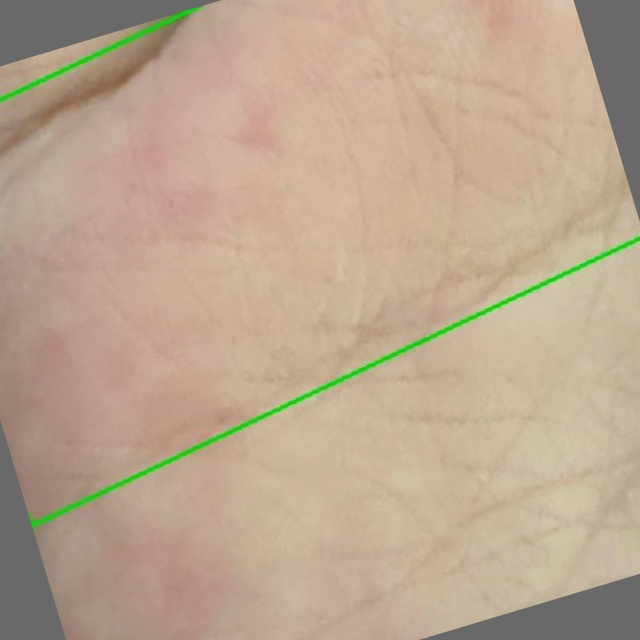Contact Dermatitis: (0, 0, 639, 525)
